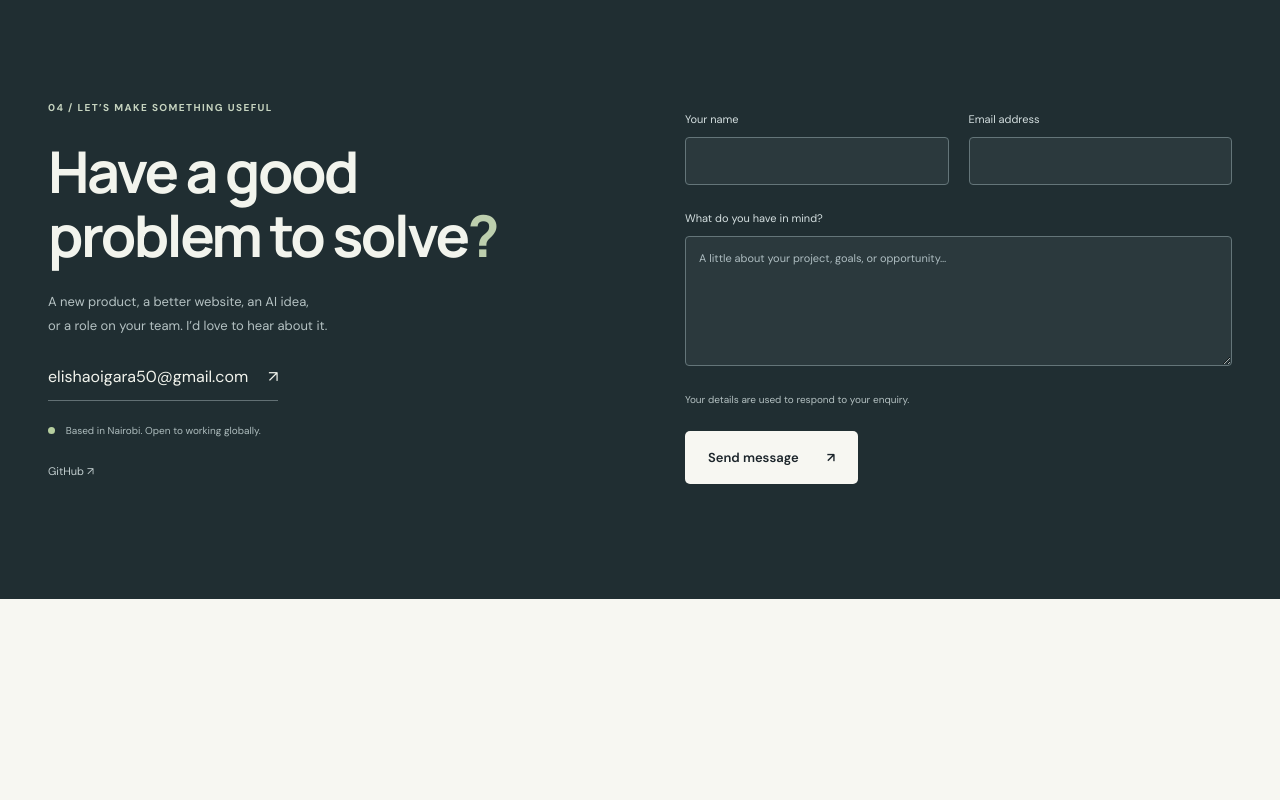
preserves the enquiry if delivery fails
Type "Visitor" into the field labelled "Your name" at [817, 161], box [685,137,948,184]
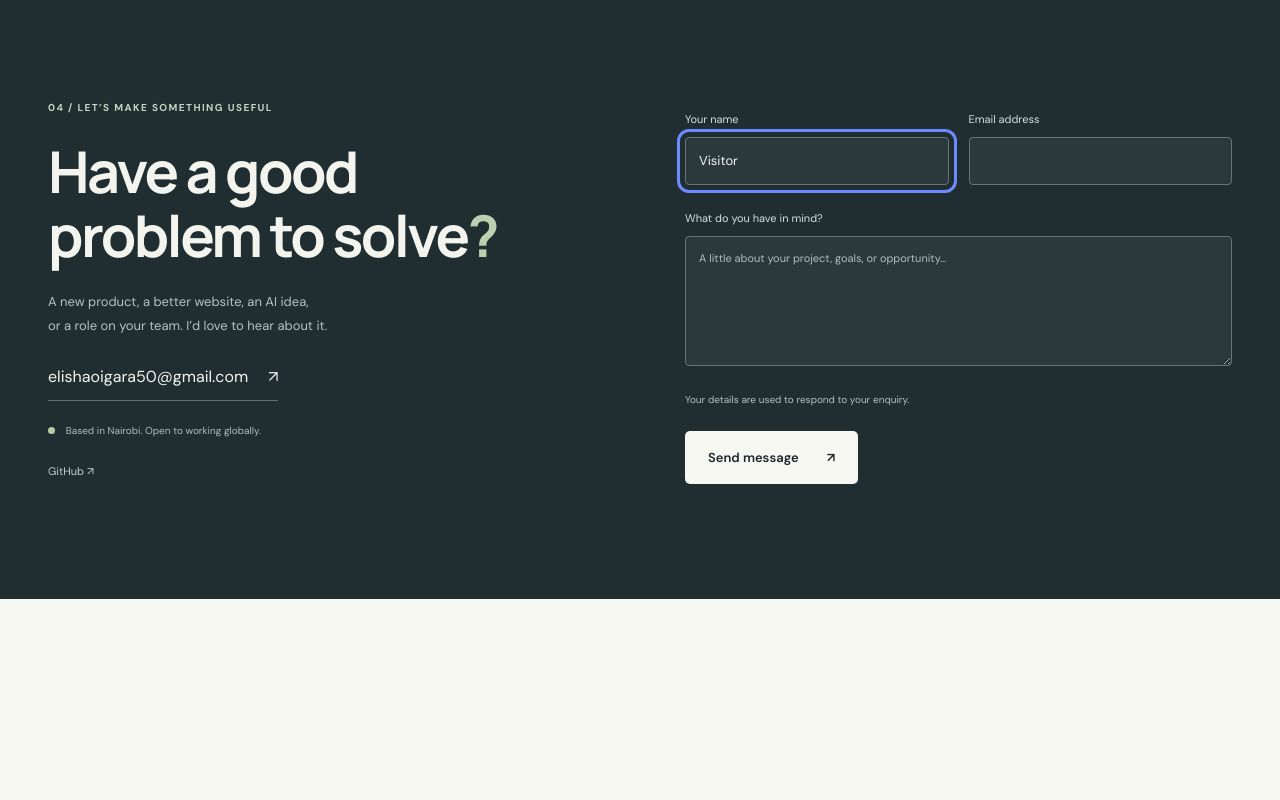
Type "visitor@example.com" into the field labelled "Email address" at [1100, 161], box [968,137,1232,184]
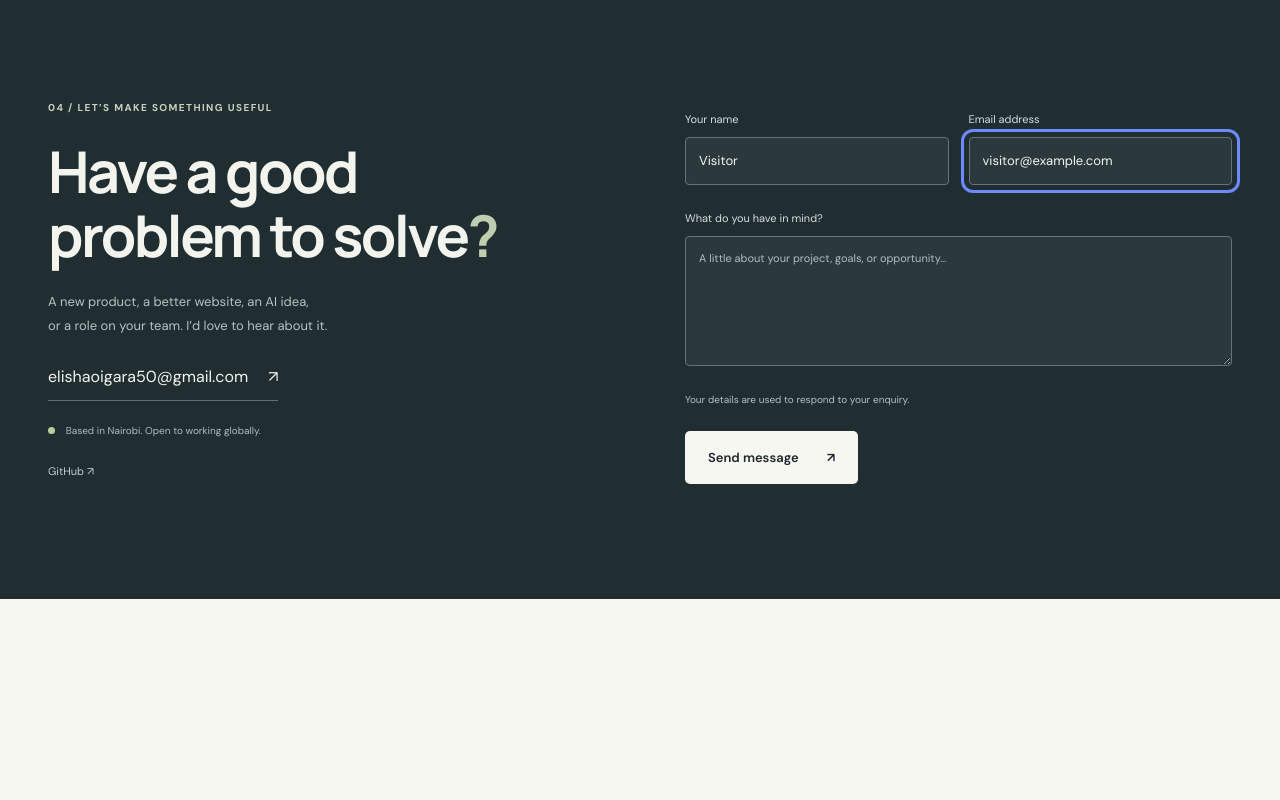
Type "A useful project." into the text box labelled "What do you have in mind?" at [958, 301], box [685,236,1232,366]
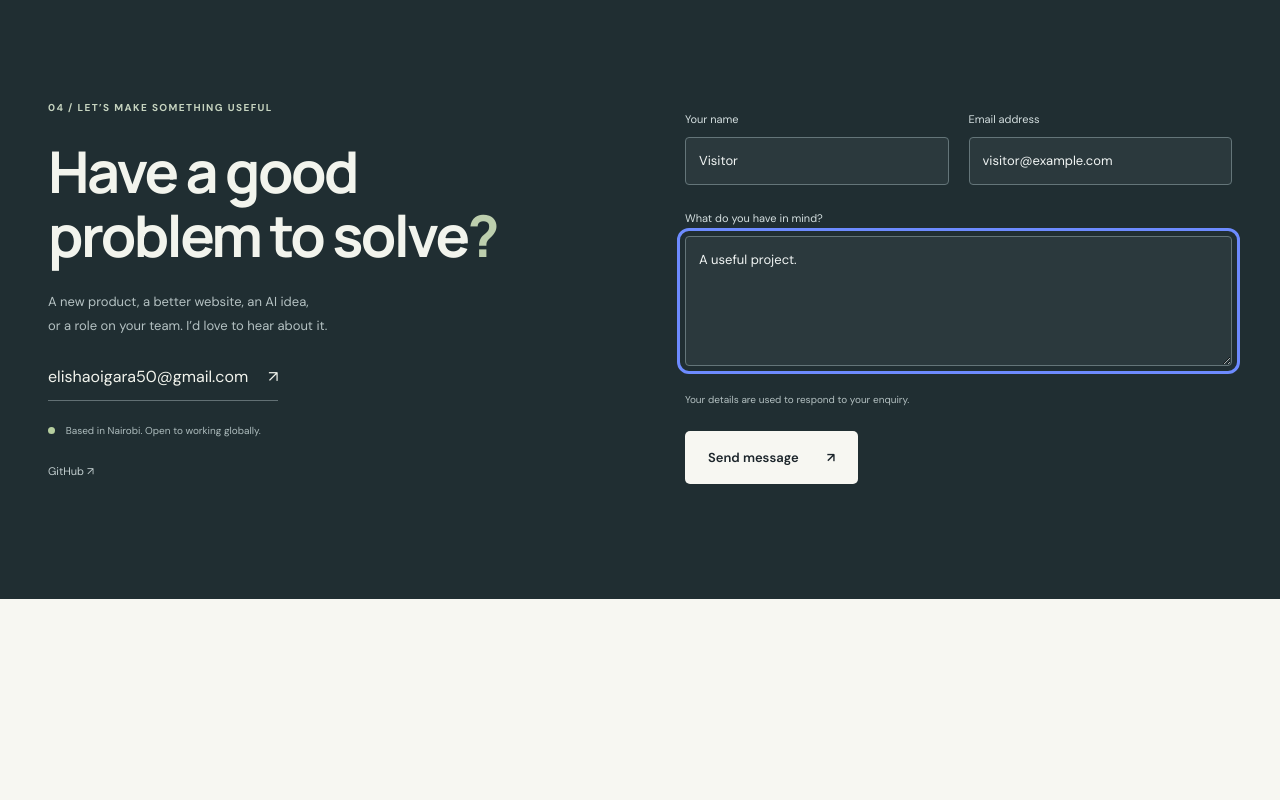
Click the button "Send message ↗" at [772, 457], box [685,431,858,484]
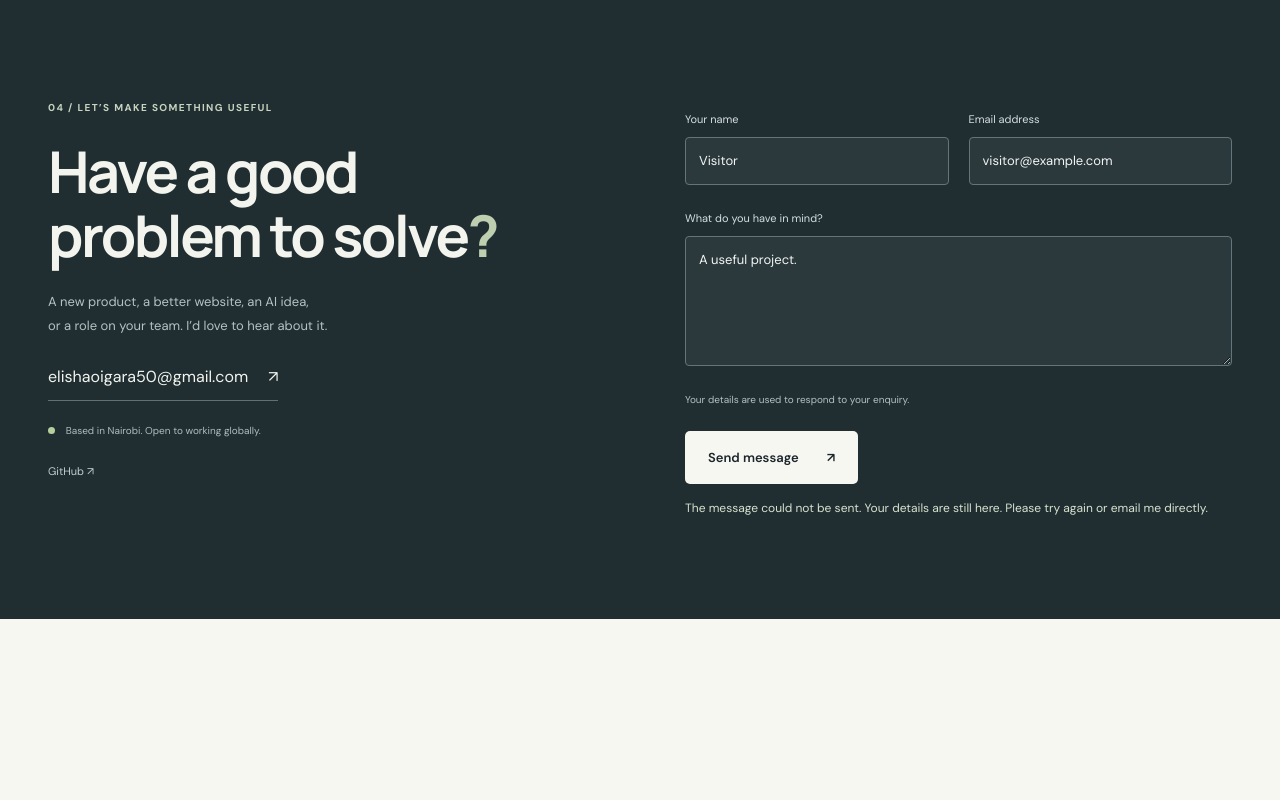
Check: the message shows "could not be sent", box [685,500,1208,516]
